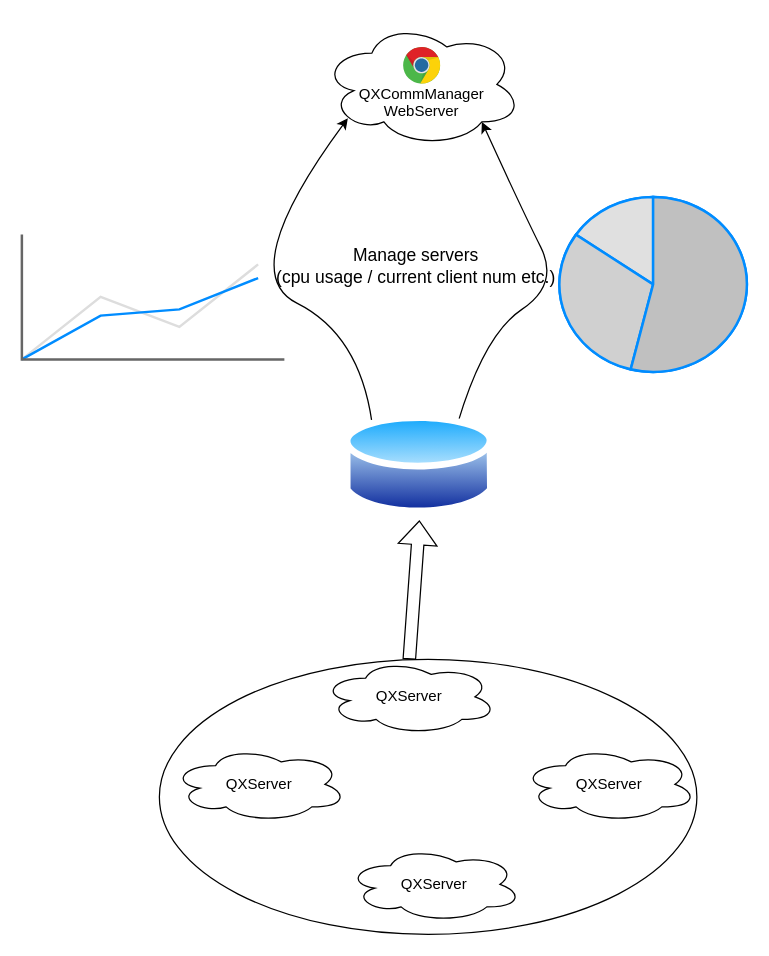
Some shapes in this 769 by 956 pixel diagram are drawn without their labels. The box of each missing label's shape, as (x1, y1, x2, y2) in pixels:
QXCommManager (Back End): (344, 409, 494, 520)
QXServer Cluster: (158, 658, 697, 934)
